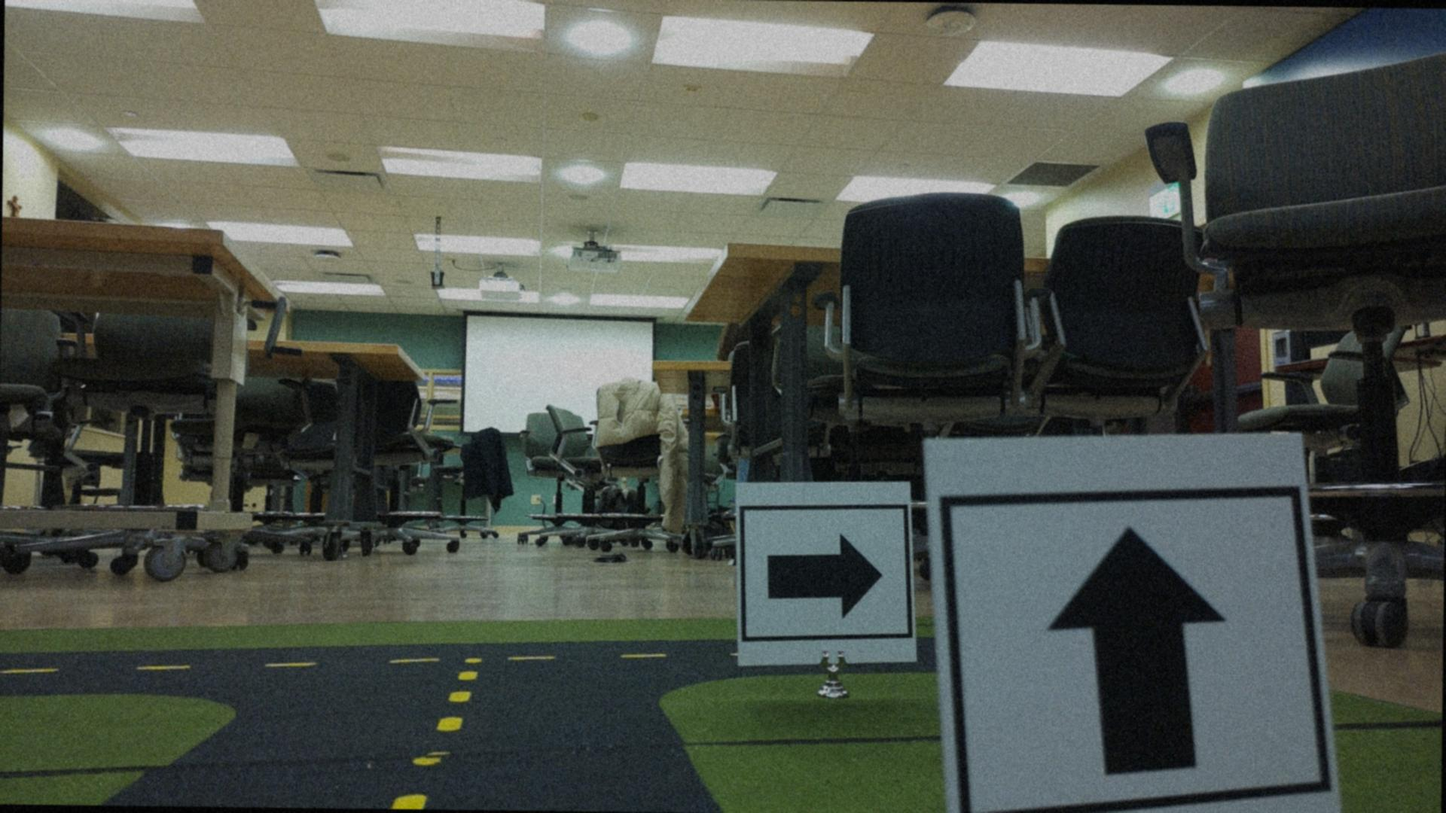gostraight: (947, 446, 1299, 808)
turnleft: (731, 486, 908, 667)
yellowline: (394, 667, 477, 807)
